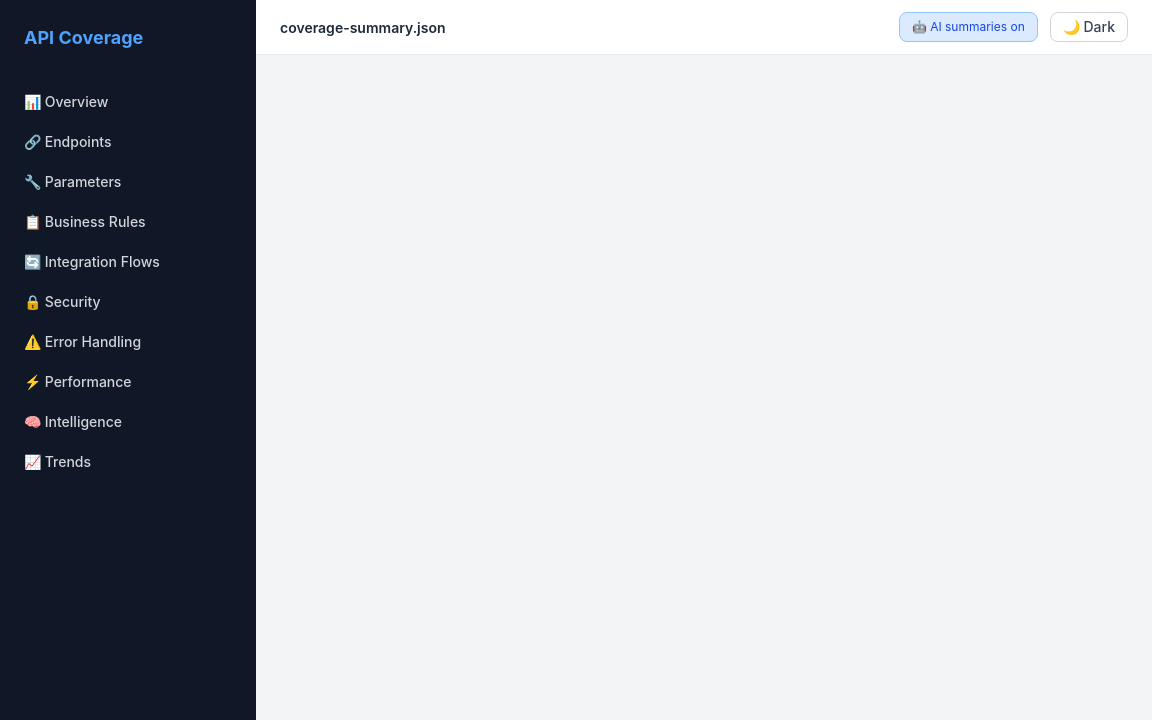
Test case: Dashboard navigation › navigates to /endpoints via sidebar and shows h1 "Endpoints"
Click the link "🔗 Endpoints": {"x": 68, "y": 142} [24,133,112,150]
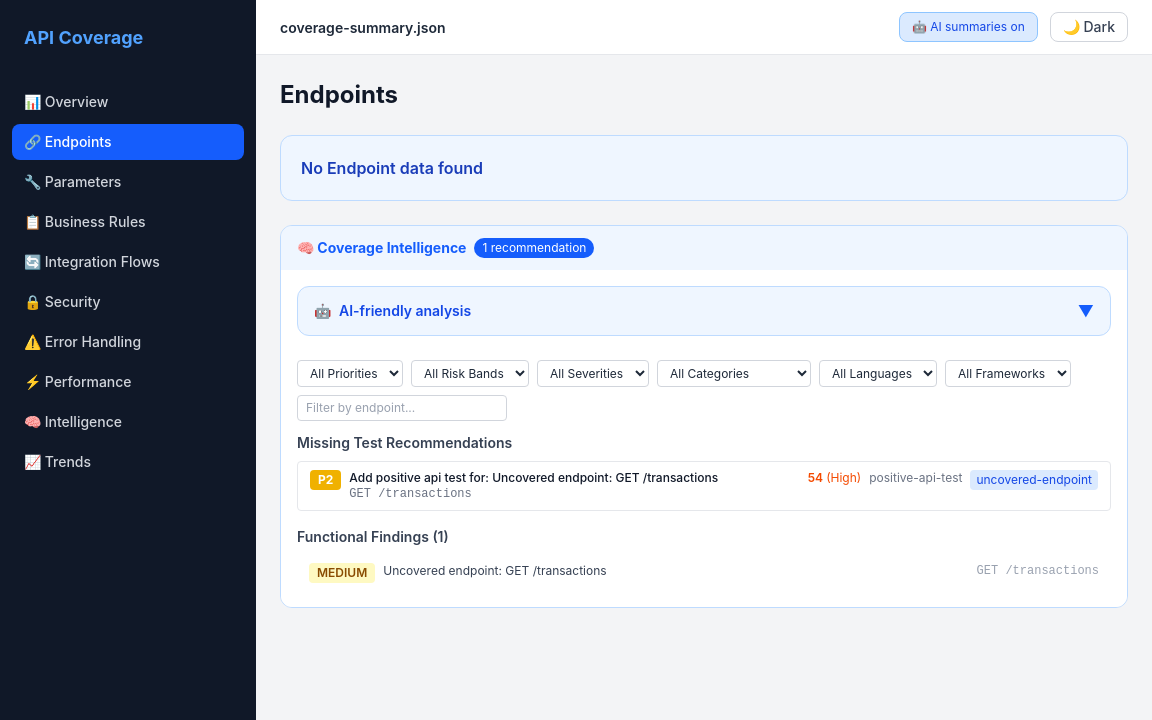
Expected: the heading "Endpoints" is shown, [280,80,398,109]
